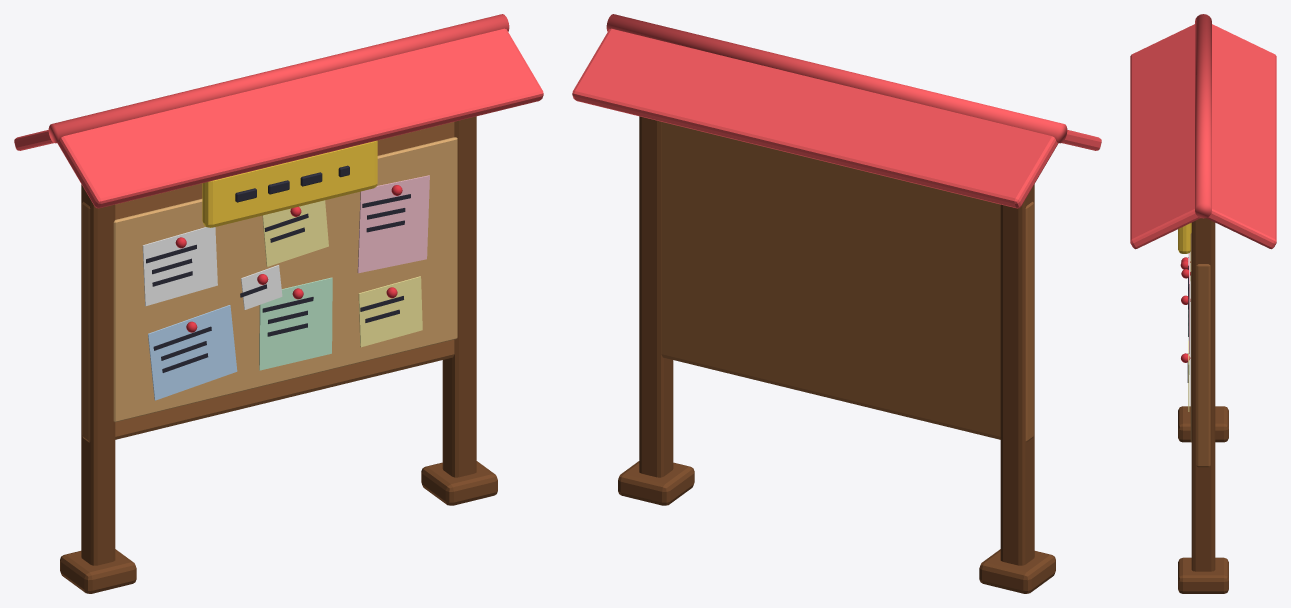
File: board.glb
3 renders of one model, left to right at view 1: azimuth 30°, elevation 25°; view 2: azimuth 150°, elevation 25°; view 3: azimuth 270°, elevation 25°, orthographic. The views are drawn at different scales.
Parts seen in each view (by area): view 1: Board; view 2: Board; view 3: Board.
Part boxes in pixels (bbox=[...]): Board: bbox=[14, 14, 543, 593]; Board: bbox=[572, 14, 1101, 593]; Board: bbox=[1130, 14, 1276, 593].
Size of the model in its own units: 2.62 by 2.59 by 0.8585.
